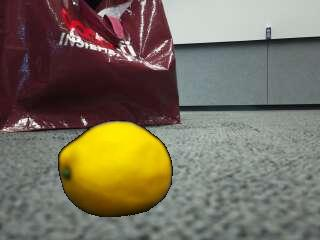lemon: (58, 122, 172, 216)
